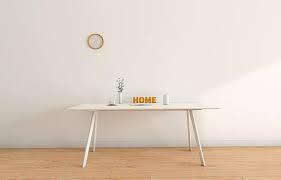desk: (45, 67, 238, 172)
